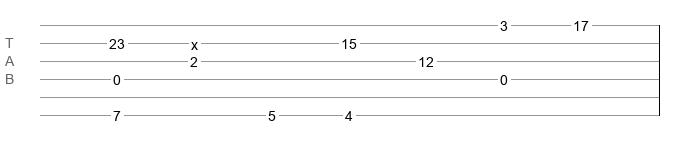0: (113, 72, 121, 82), (500, 72, 508, 82)
12: (418, 54, 434, 64)
15: (341, 36, 357, 46)
17: (573, 18, 589, 28)
2: (190, 54, 198, 64)
23: (109, 36, 125, 46)
3: (500, 18, 508, 28)
4: (345, 108, 353, 118)
5: (268, 108, 276, 118)
7: (113, 108, 121, 118)
x: (191, 37, 198, 45)
